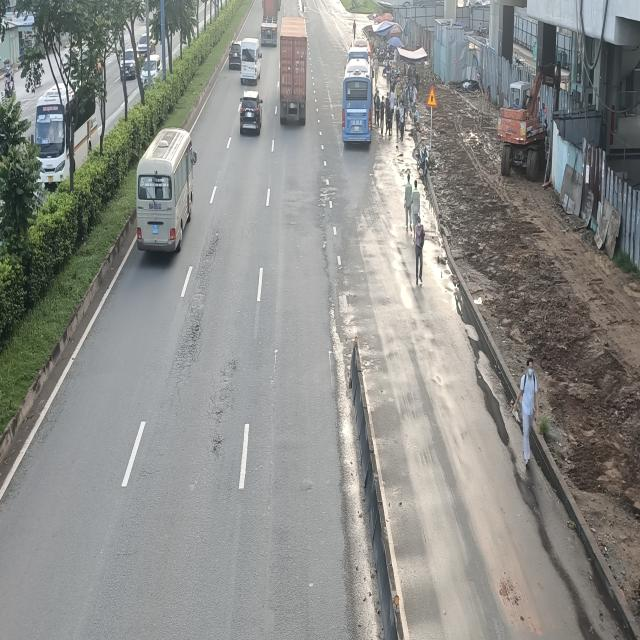car: (239, 90, 264, 136)
coach: (138, 130, 199, 257), (342, 38, 373, 148)
container: (278, 15, 308, 124), (260, 0, 279, 47)
van: (241, 38, 262, 85)
